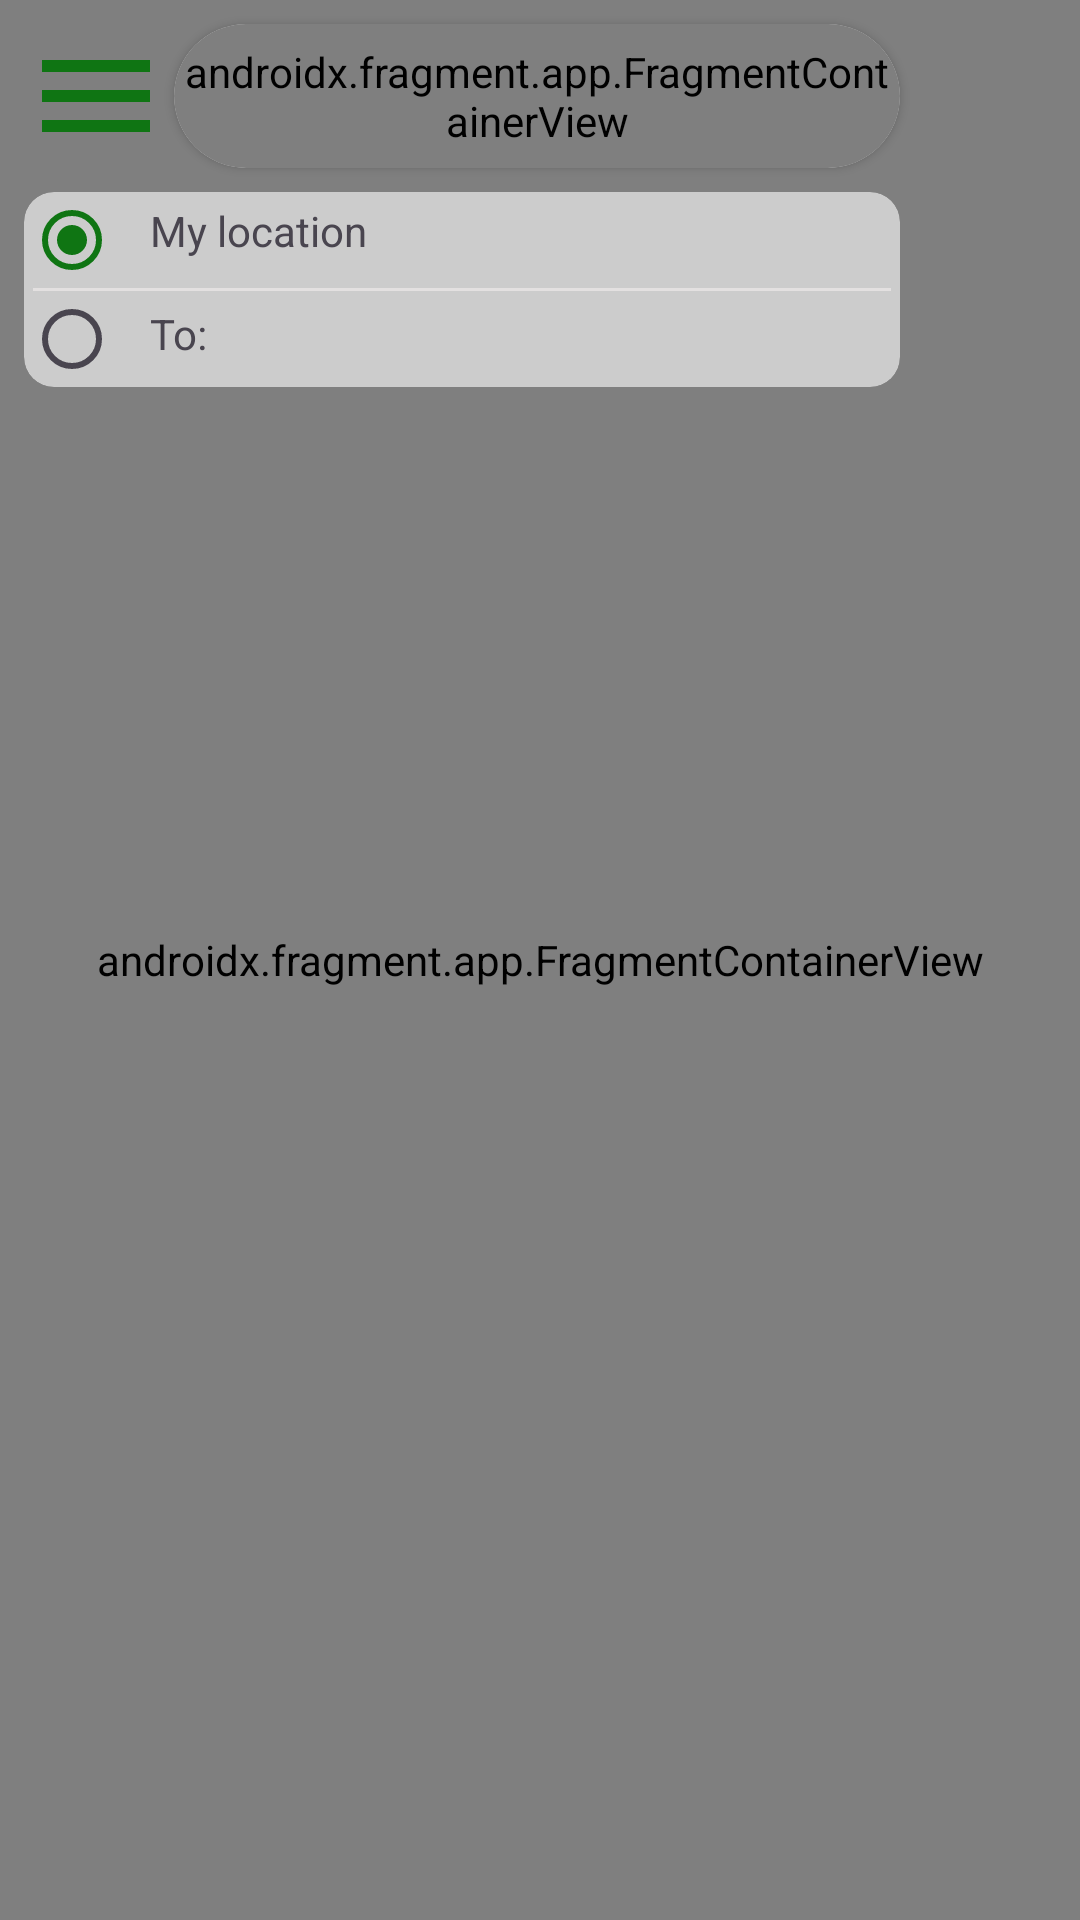

Named icons in this screenshot (1080×1920) and their centers, point (x, y):
menu: point (96, 96)
